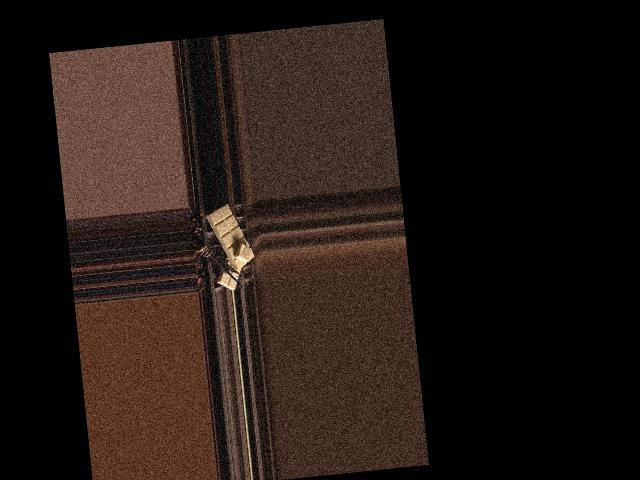chocolate: (206, 202, 255, 274)
